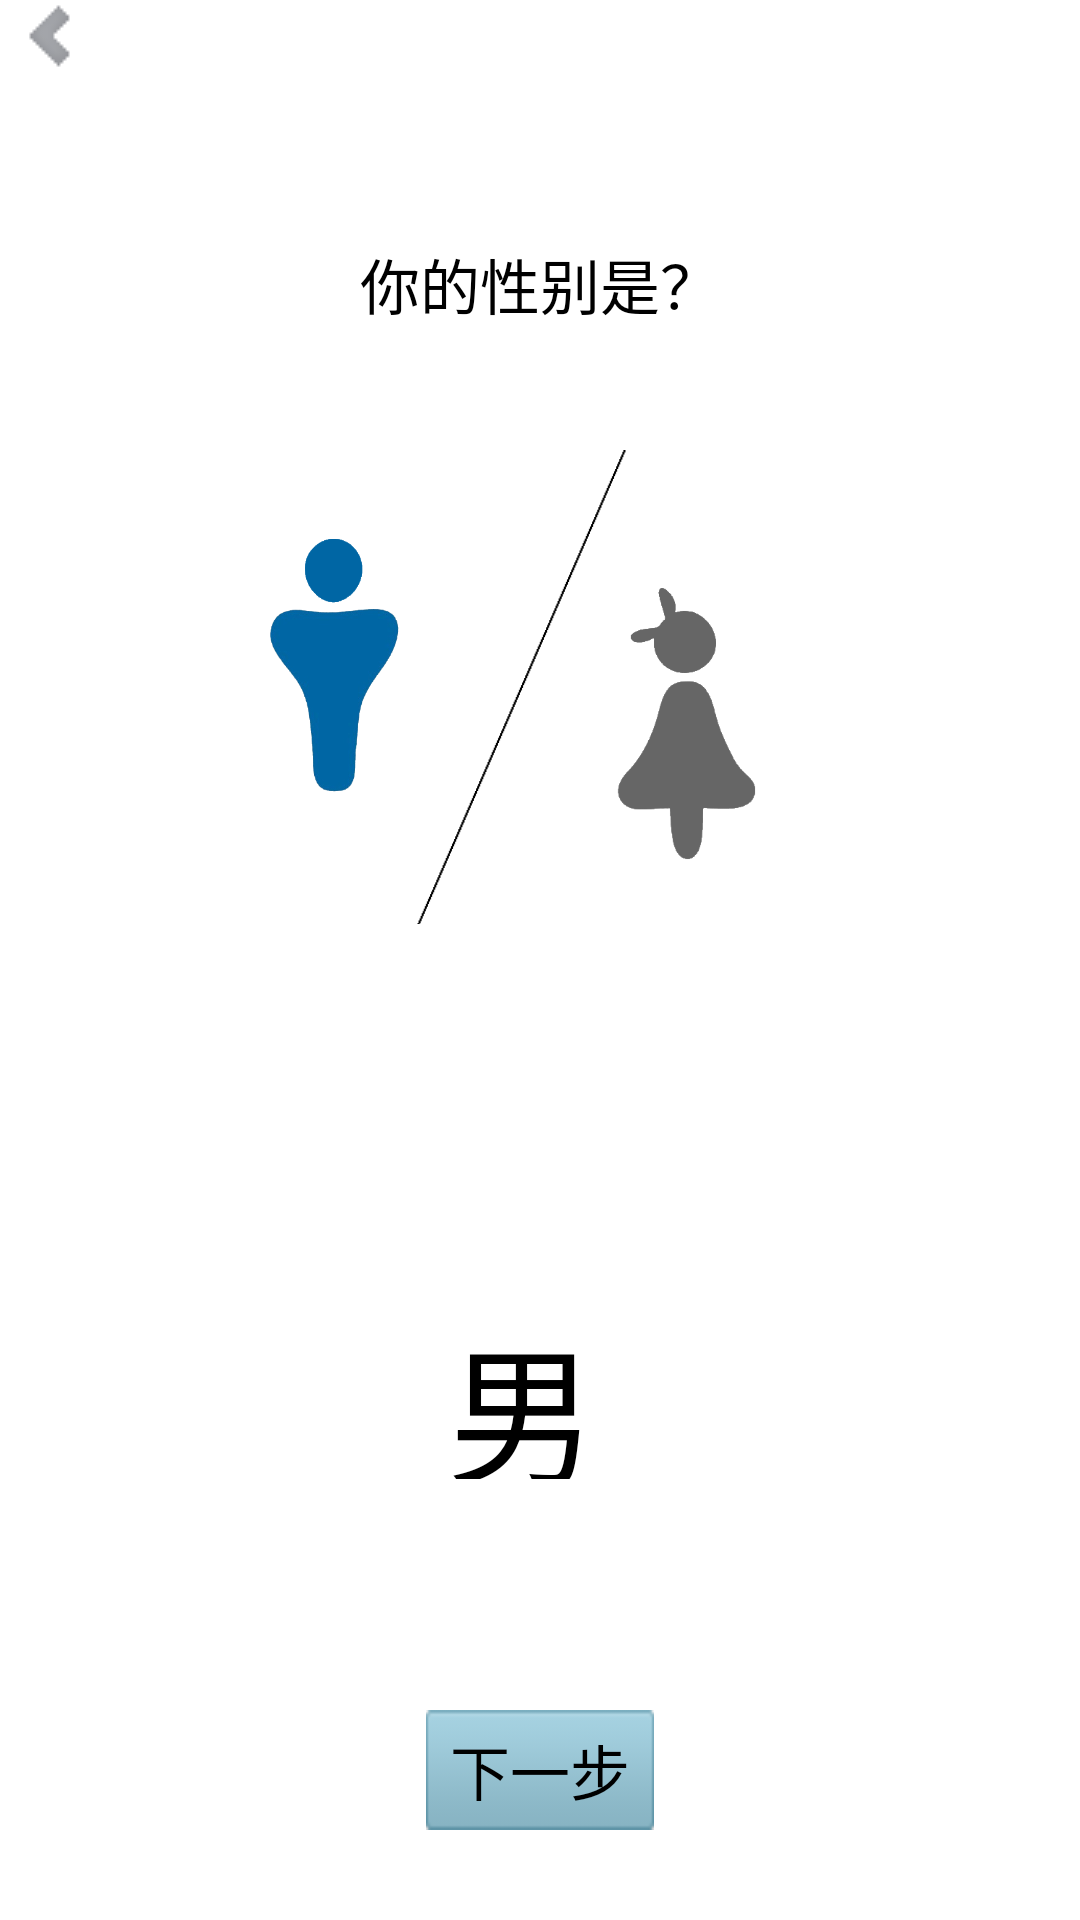

Icon click points for this 1080*1920 phone screenshot, format point (x, y):
left: point (49, 36)
